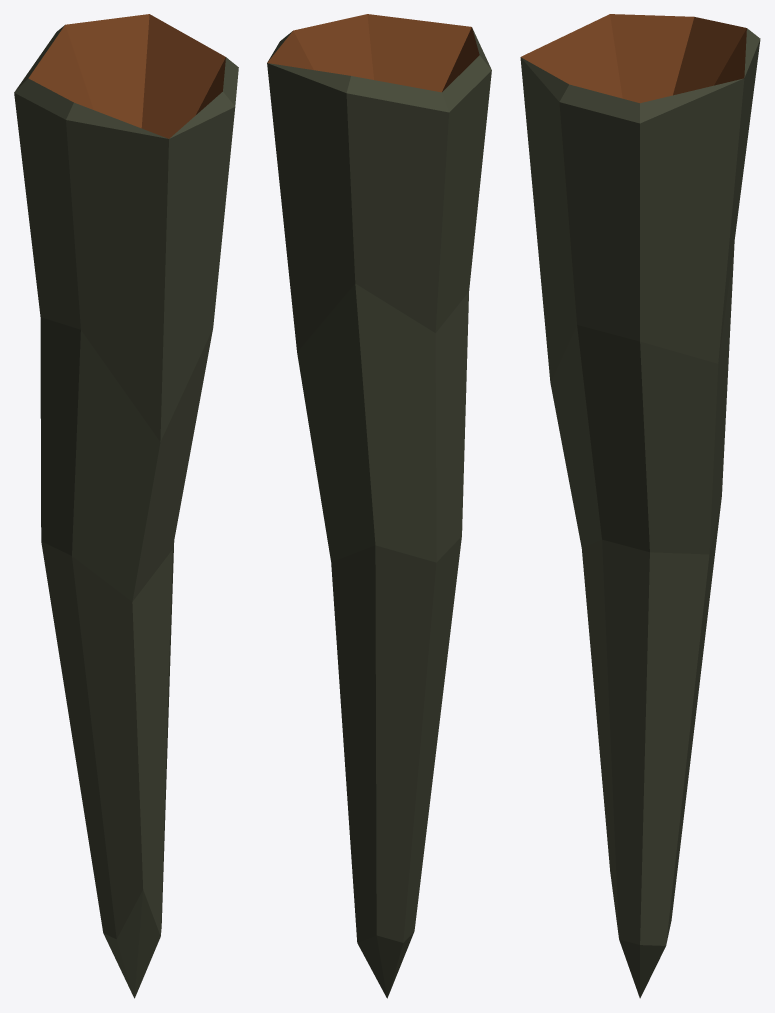
Rendered from Vine_0.fbx.
3 views of the same model, side by side, from view 1: azimuth 30°, elevation 25°; view 2: azimuth 150°, elevation 25°; view 3: azimuth 270°, elevation 25° (orthographic). The views are drawn at different scales.
Visible parts, largest first — view 1: Cone; view 2: Cone; view 3: Cone.
Boxes of the visible parts, x1,y1,x2,y2 form: Cone: [14, 14, 238, 998]; Cone: [267, 14, 491, 998]; Cone: [520, 14, 760, 998].
Bounding box in the file's own units: 37.41 × 173 × 39.03.
